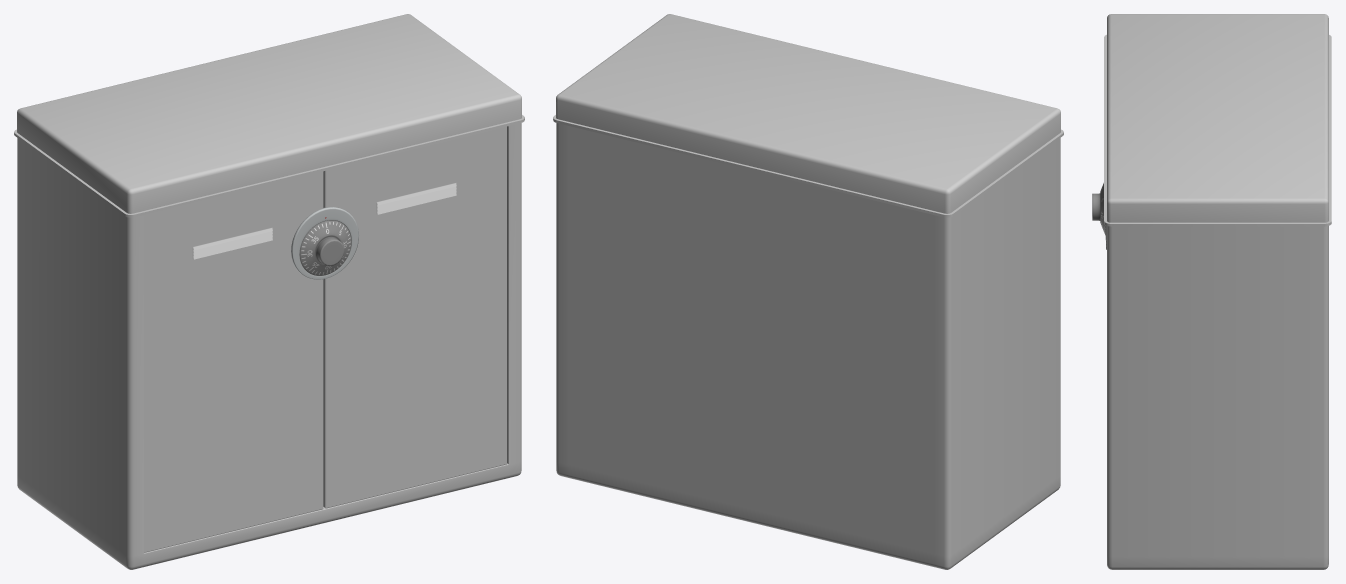
Rendered from metal_cabinet.fbx.
3 renders of one model, left to right at view 1: azimuth 30°, elevation 25°; view 2: azimuth 150°, elevation 25°; view 3: azimuth 270°, elevation 25°, orthographic. The views are drawn at different scales.
Parts seen in each view (by area): view 1: Cabin_base, door_right, door_left, Numbers, Lock; view 2: Cabin_base; view 3: Cabin_base, Numbers.
Boxes of the visible parts, x1,y1,x2,y2 form: Cabin_base: [14, 14, 524, 569]; door_right: [323, 126, 506, 508]; door_left: [144, 171, 323, 552]; Numbers: [299, 220, 351, 276]; Lock: [291, 207, 358, 279]; Cabin_base: [553, 14, 1063, 569]; Cabin_base: [1104, 14, 1331, 569]; Numbers: [1092, 183, 1105, 235].
Bounding box in the file's own units: 81 × 73.9 × 43.13.
